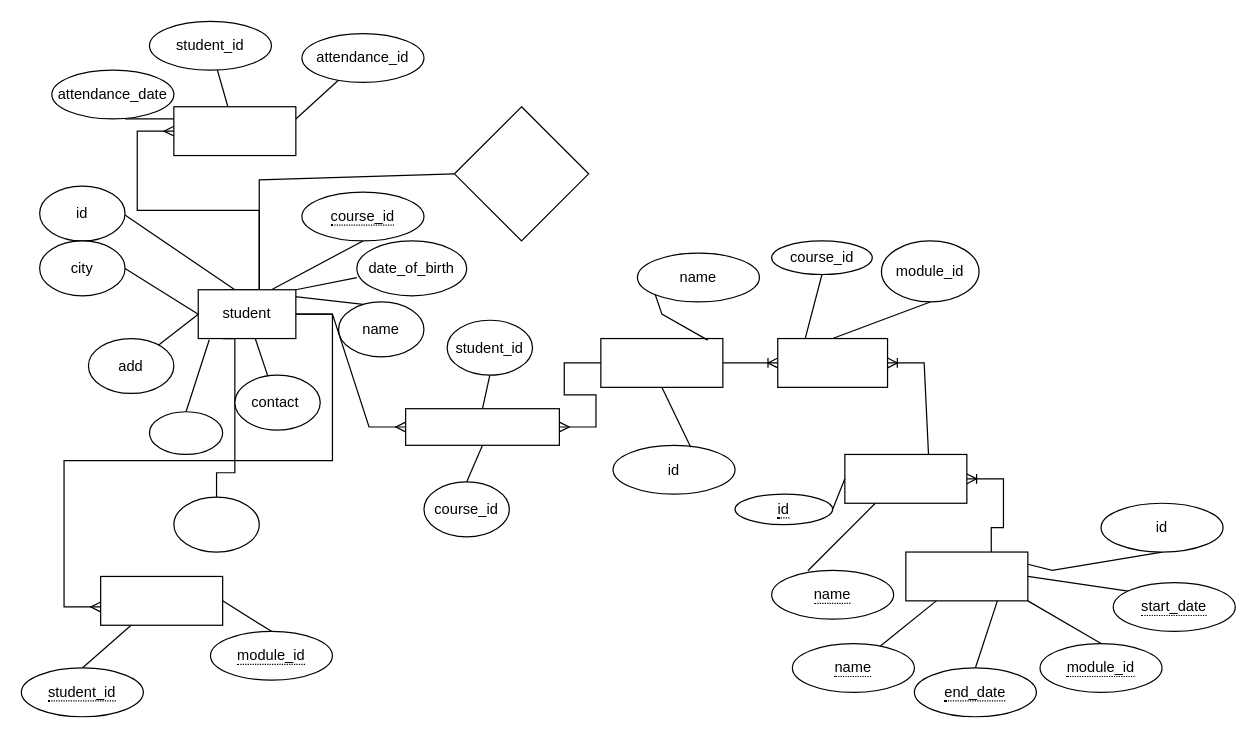
Some shapes in this 1258 by 738 pixel diagram are drawn without their labels. The box of each missing label's shape, as (x1, y1, x2, y2) in pixels:
assignment: (905, 551, 1028, 601)
attendance: (173, 106, 296, 156)
course: (600, 337, 723, 387)
course_module: (777, 337, 888, 387)
course_student: (404, 407, 559, 445)
email: (148, 411, 223, 454)
gender: (173, 496, 259, 552)
module: (844, 453, 967, 503)
student_module: (99, 575, 223, 625)
University: (453, 106, 589, 241)
